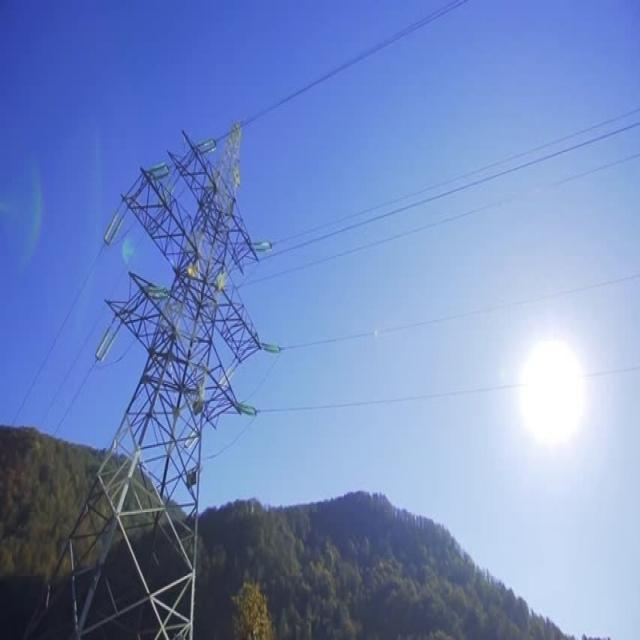non-critical vegetation: (64, 133, 270, 604)
